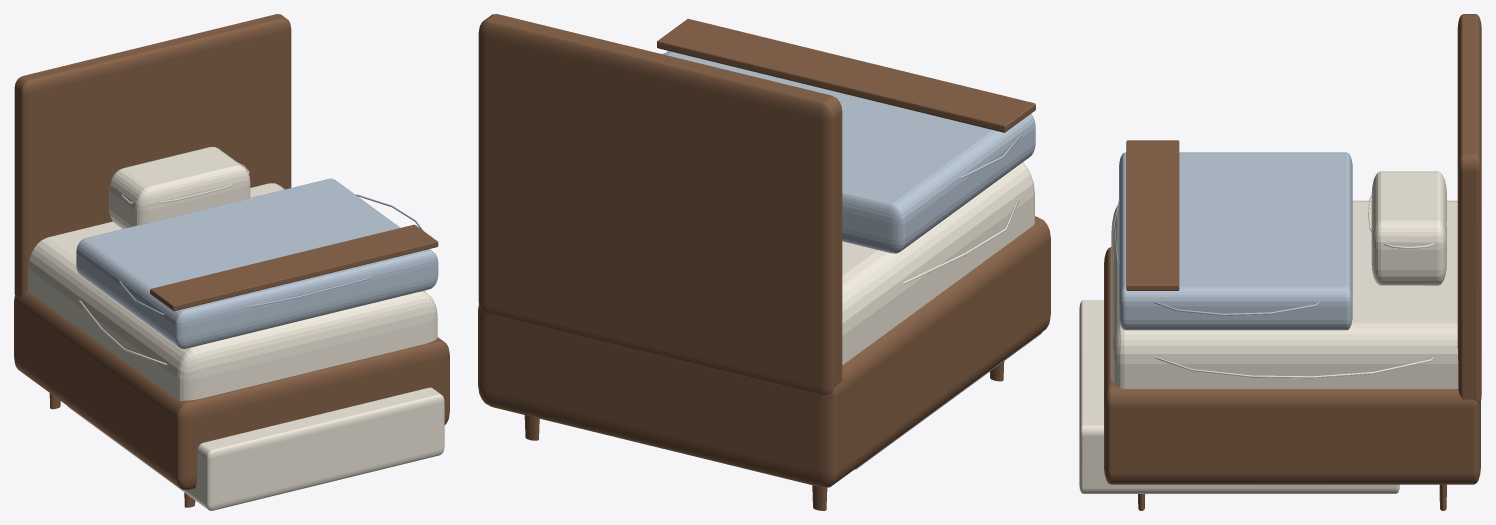
The model's file is bed-2-4.glb.
3 renders of one model, left to right at view 1: azimuth 30°, elevation 25°; view 2: azimuth 150°, elevation 25°; view 3: azimuth 270°, elevation 25°, orthographic. The views are drawn at different scales.
Parts seen in each view (by area): view 1: tailored-cushion (×2), part; view 2: part, tailored-cushion (×2); view 3: tailored-cushion (×2), part.
Boxes of the visible parts, x1=… form: tailored-cushion (×2): x1=28, y1=147, x2=444, y2=510; part: x1=14, y1=14, x2=449, y2=507; part: x1=478, y1=14, x2=1050, y2=510; tailored-cushion (×2): x1=661, y1=51, x2=1042, y2=469; tailored-cushion (×2): x1=1079, y1=152, x2=1458, y2=493; part: x1=1104, y1=14, x2=1481, y2=510.
Bounding box in the file's own units: 1 × 1 × 1.
